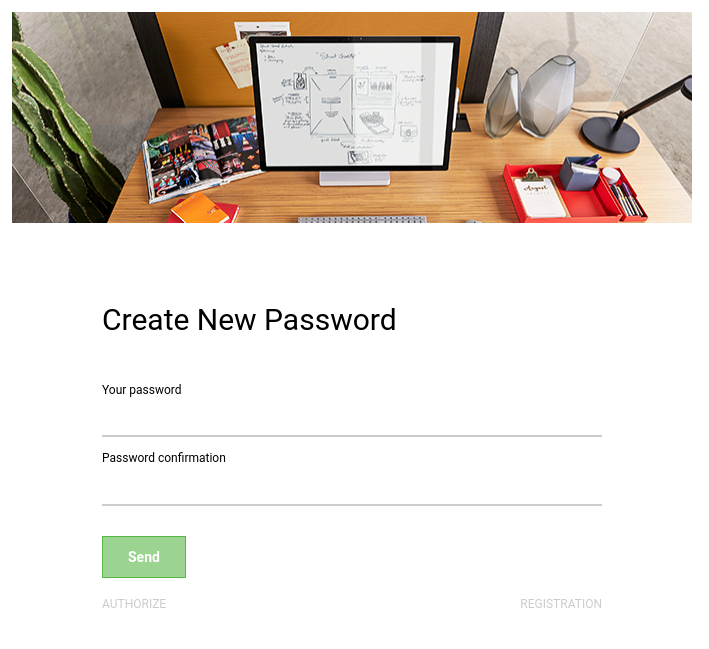
Scenario: NewPassword › input double password › too short
The width and height of the screenshot is (709, 649).
In the password field with test id "input_double_password": (352, 487) [102,468,602,506], type "lk"
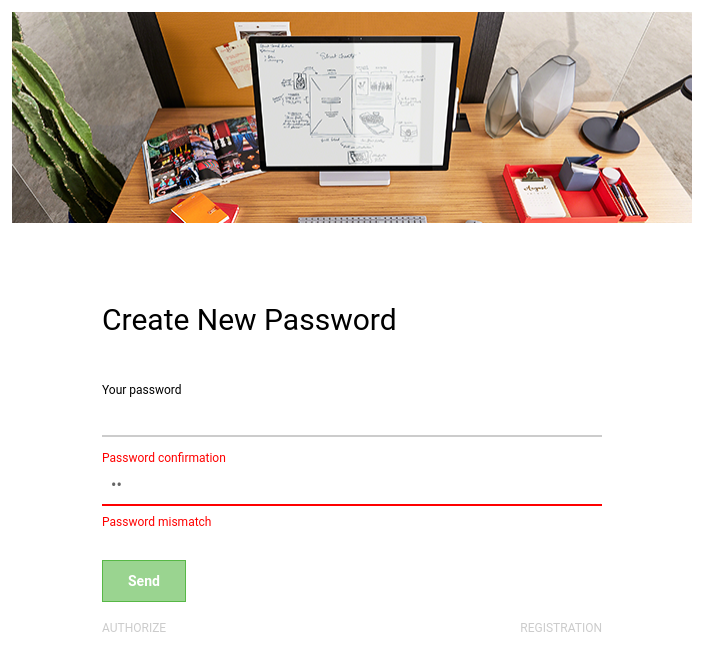
Now the element with test id "test_double_password" reads "Password mismatch", box [102,515,212,529]
